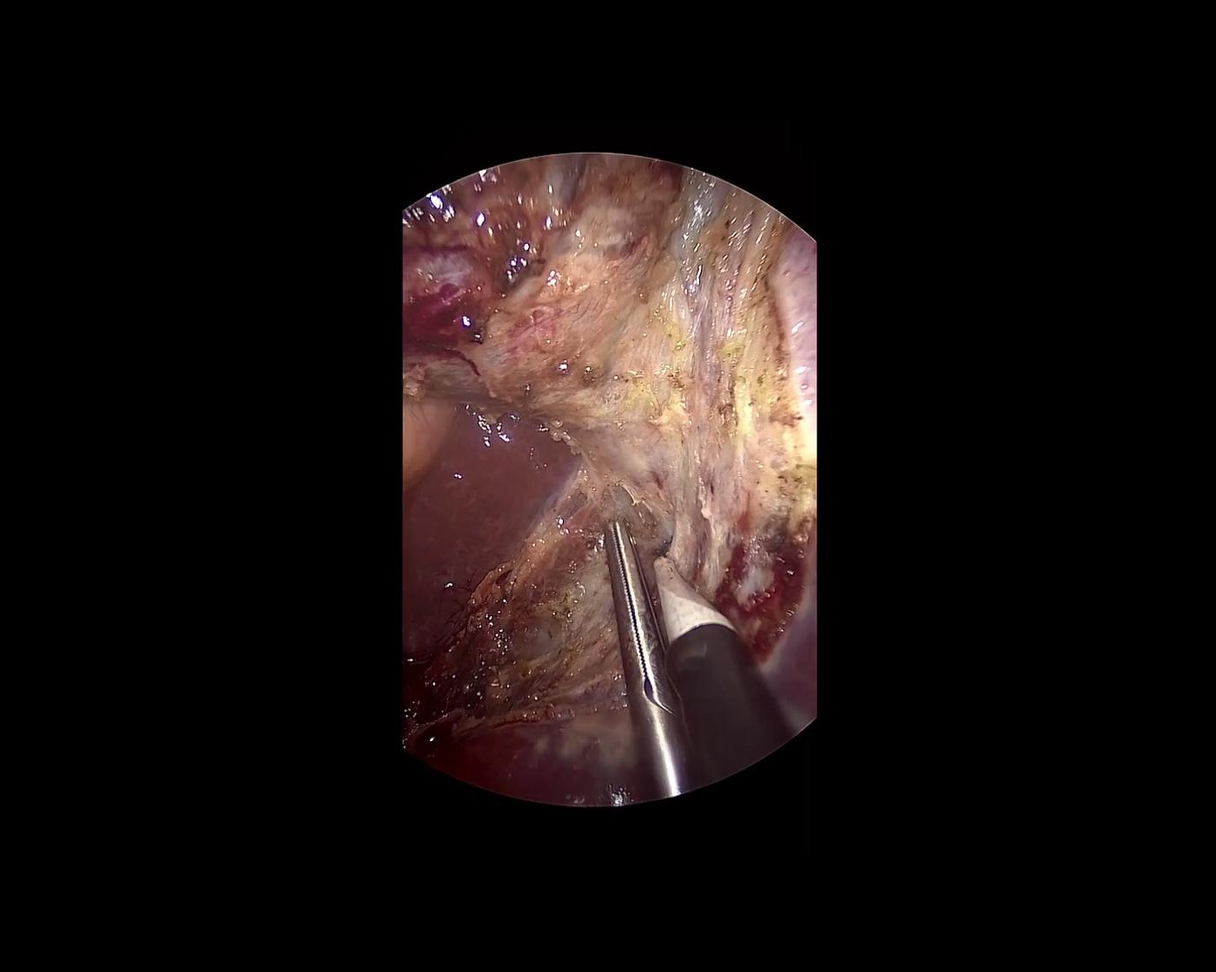Cautery: (604, 540, 792, 783)
Forceps: (581, 517, 698, 802)
Gallbladder: (355, 105, 803, 499)
Liver: (326, 381, 583, 678), (423, 706, 642, 808)
